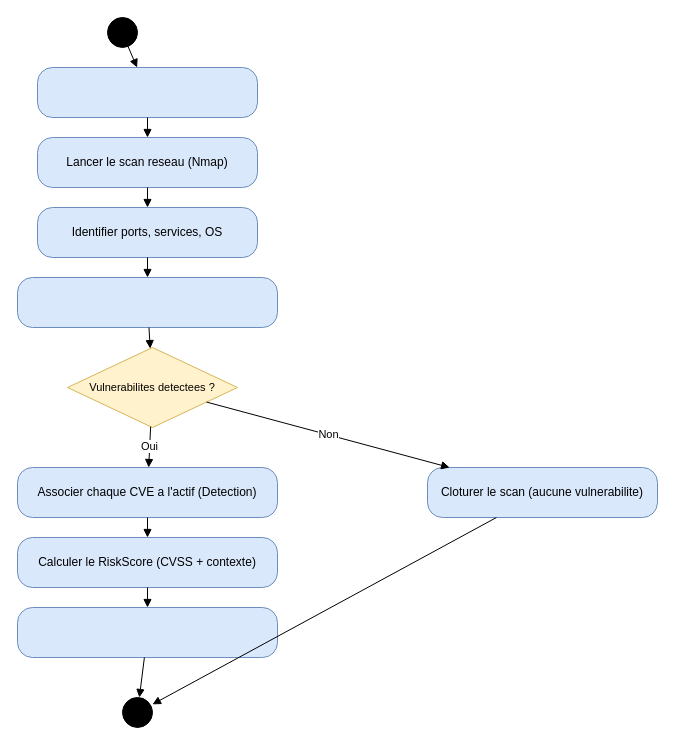
The diagram is 675 pixels wide and 745 high, and some of its shapes have lost their labels. The box of each missing label's shape, as (x1, y1, x2, y2) in pixels:
Creer une remediation et notifier le technicien: (16, 606, 278, 658)
Lancer l'analyse de vulnerabilites (Greenbone): (16, 276, 278, 328)
Selectionner un actif: (36, 66, 258, 118)
